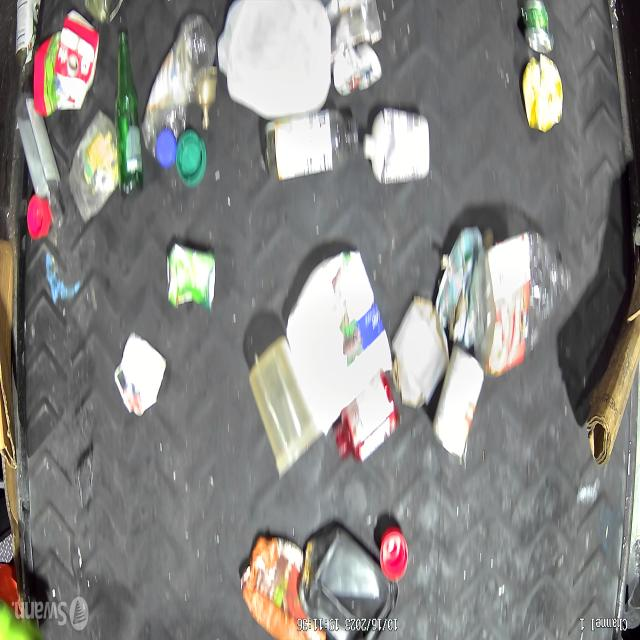can: (432, 345, 485, 464), (165, 240, 217, 312), (521, 55, 565, 134), (520, 0, 555, 55), (16, 0, 42, 73)
milk_jug: (216, 0, 333, 127)
non_white_jug: (238, 534, 326, 640)
plastic_bottle: (471, 228, 570, 382), (140, 12, 216, 170), (14, 92, 66, 228)
